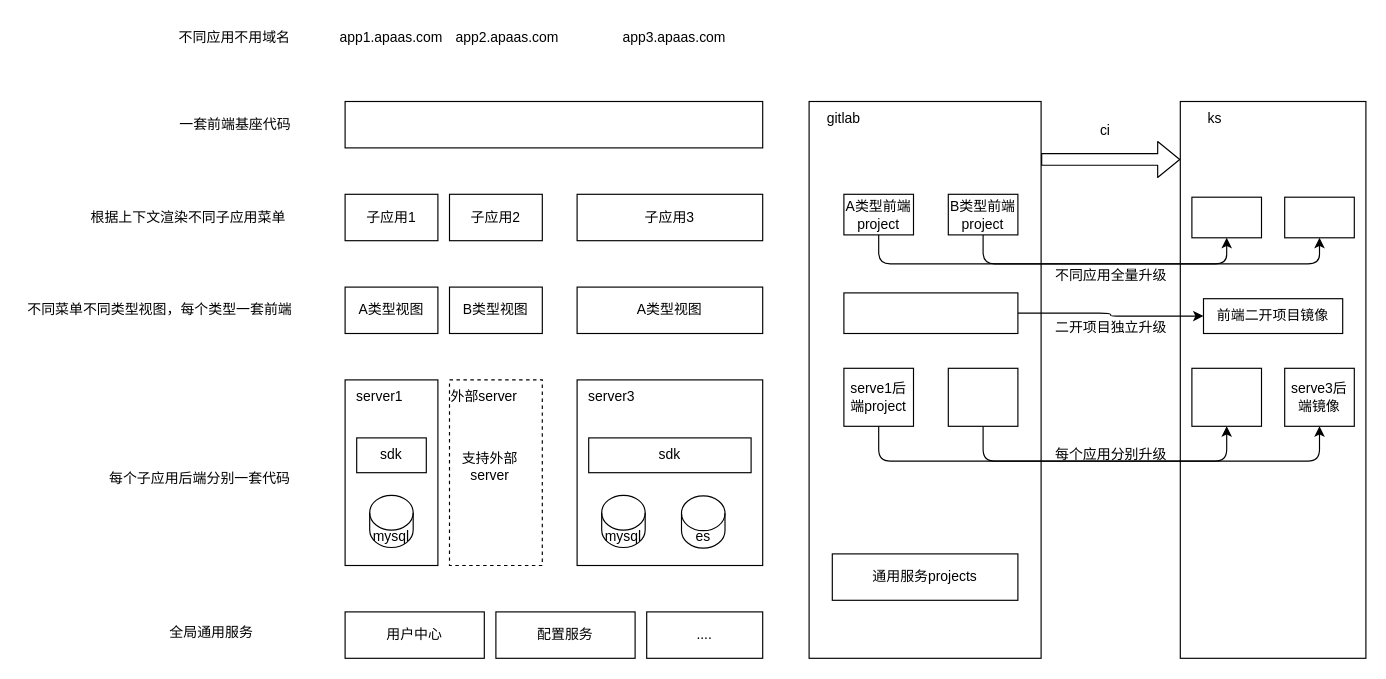
Some shapes in this 1386 by 679 pixel diagram are drawn without their labels. Each missing label, with the centre of its shape:
"A类型前端镜像" belongs at pixel 1226 217.
"B类型前端镜像" belongs at pixel 1319 217.
"C应用前端二开project" belongs at pixel 930 313.
"serve1后端镜像" belongs at pixel 1226 396.
"serve3后端project" belongs at pixel 982 396.
"前端基座" belongs at pixel 553 124.
